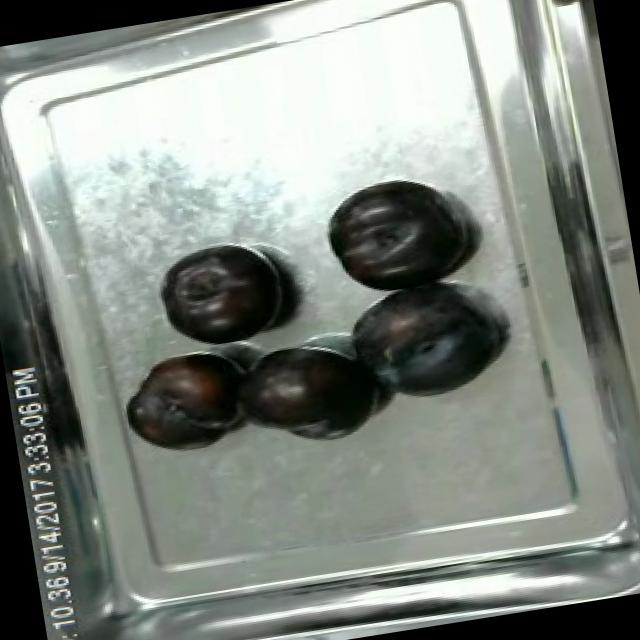Fruit: (312, 168, 478, 308), (228, 336, 388, 458), (149, 235, 302, 356), (115, 341, 254, 463), (522, 0, 594, 13)
